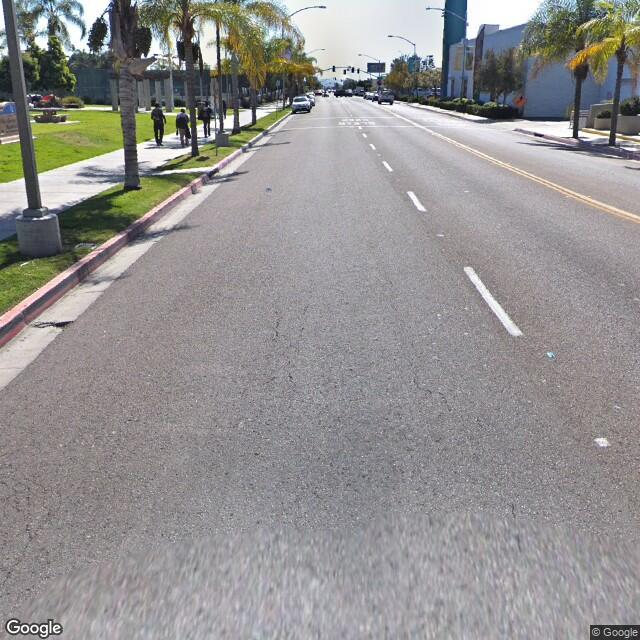road line: (411, 187, 548, 339), (566, 189, 624, 223)
